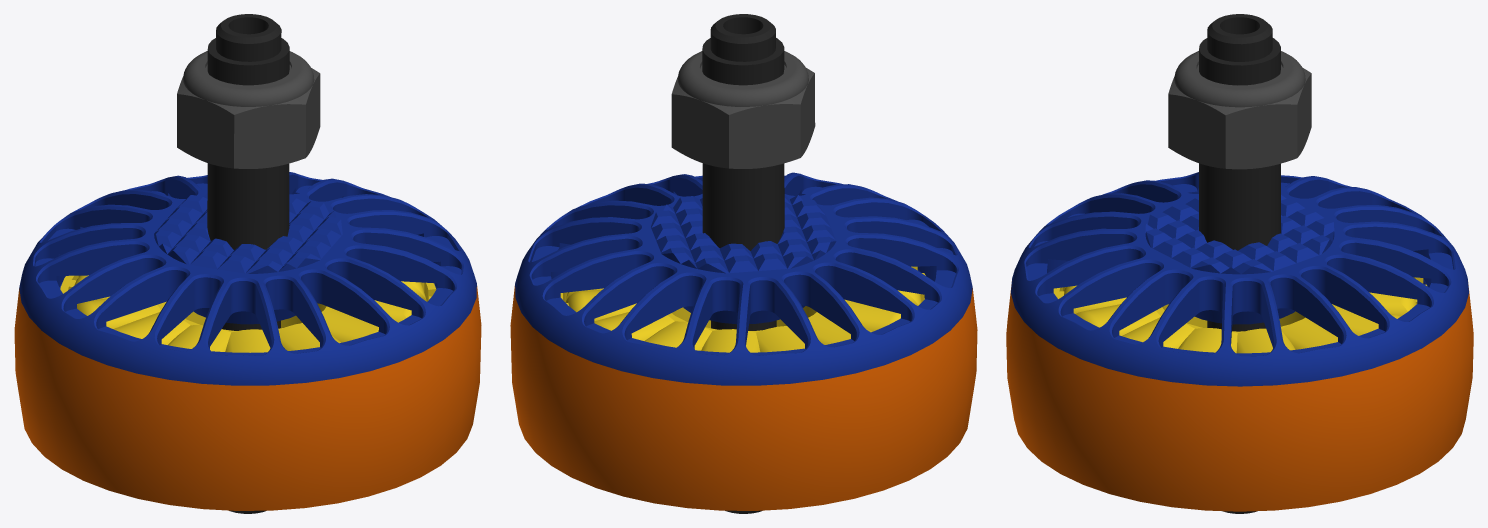
Rendered from Motor2.fbx.
The picture shows the model from 3 angles, left to right: view 1: azimuth 30°, elevation 25°; view 2: azimuth 150°, elevation 25°; view 3: azimuth 270°, elevation 25°; orthographic projection.
Parts seen in each view (by area): view 1: MotorShell.005, Nuts.002, axels.005, coils.002; view 2: MotorShell.005, Nuts.002, axels.005, coils.002; view 3: MotorShell.005, Nuts.002, axels.005, coils.002.
Boxes of the visible parts, bbox=[...] form: MotorShell.005: bbox=[14, 172, 481, 510]; Nuts.002: bbox=[177, 51, 320, 168]; axels.005: bbox=[207, 14, 289, 513]; coils.002: bbox=[60, 275, 436, 352]; MotorShell.005: bbox=[510, 172, 977, 510]; Nuts.002: bbox=[671, 51, 815, 168]; axels.005: bbox=[702, 14, 784, 513]; coils.002: bbox=[560, 266, 925, 352]; MotorShell.005: bbox=[1006, 172, 1473, 511]; Nuts.002: bbox=[1168, 51, 1311, 169]; axels.005: bbox=[1199, 14, 1280, 513]; coils.002: bbox=[1053, 277, 1426, 353].
Size of the model in its own units: 81.38 by 91.63 by 81.44.
